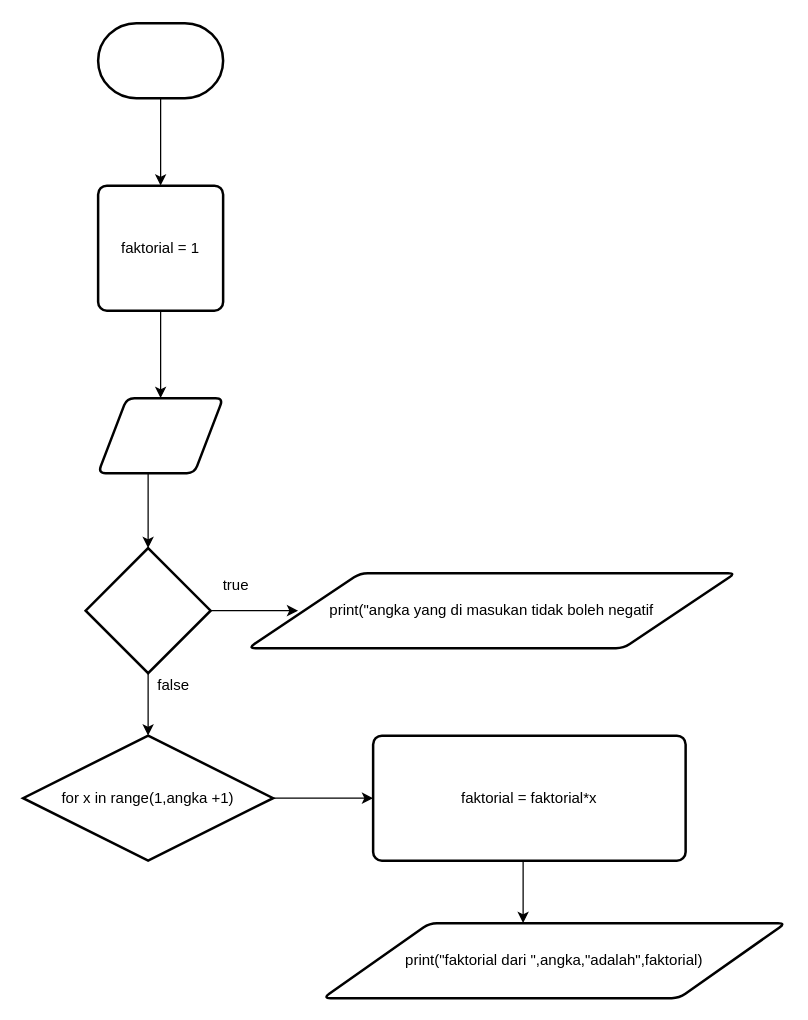
The diagram is 808 pixels wide and 1020 high, and some of its shapes have lost their labels. The shapes that lost their labels are listed below. From the top down, each one's centre as x and y in pixels, then its label:
point 160,60: mulai
point 160,435: input angka
point 147,610: if angka > 0
